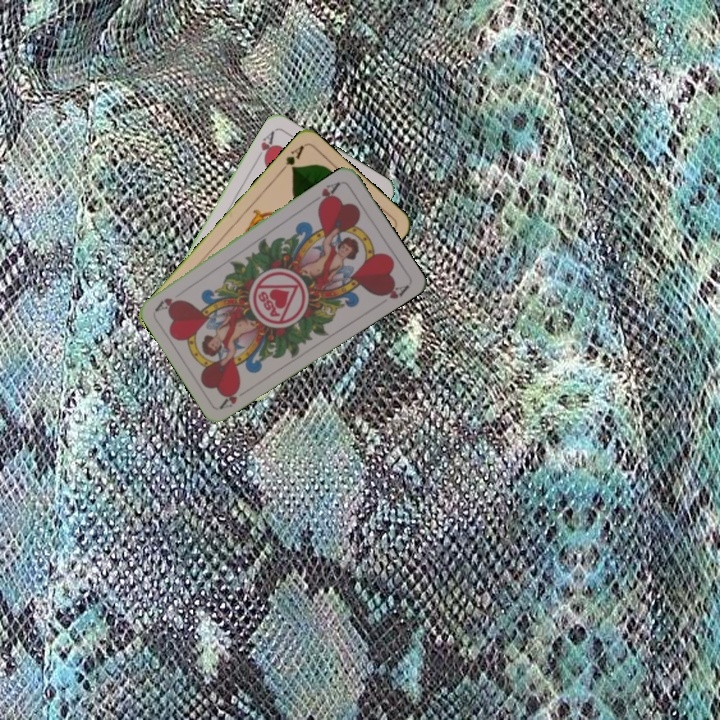GA: (276, 141, 307, 175)
HA: (308, 177, 343, 210), (216, 382, 253, 411), (252, 126, 279, 164)
